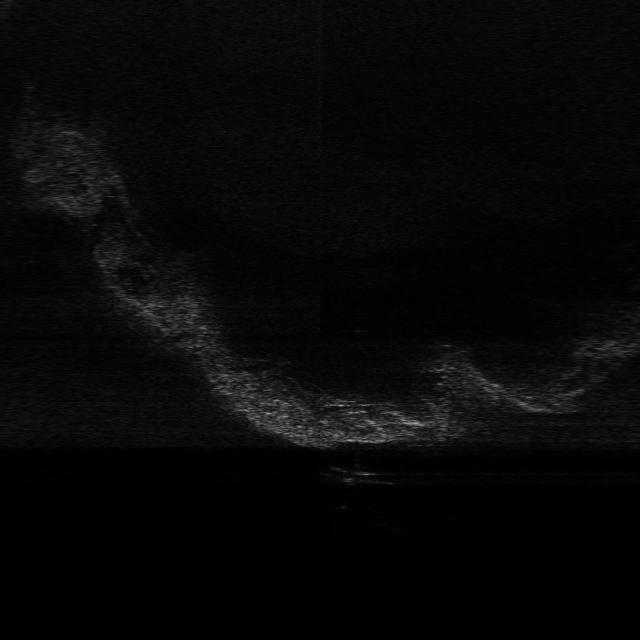plane: (323, 465, 397, 487)
